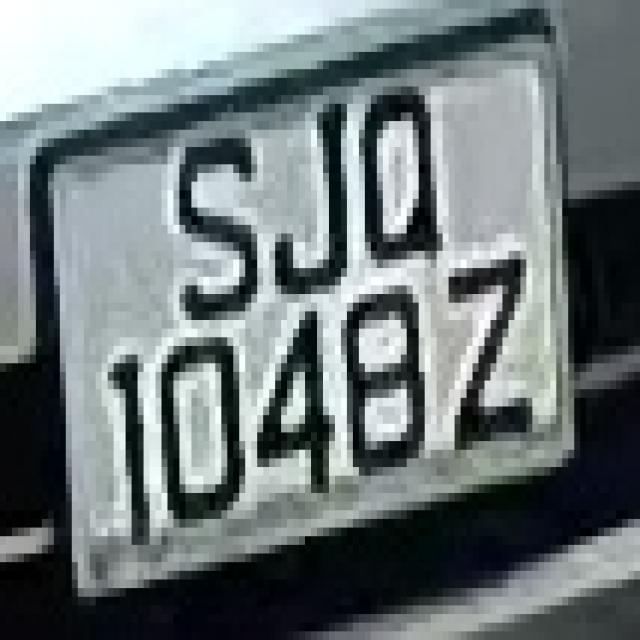0: (144, 337, 257, 562)
1: (108, 328, 168, 606)
4: (233, 286, 329, 502)
8: (329, 286, 437, 510)
J: (251, 78, 359, 311)
Q: (353, 52, 448, 311)
S: (144, 104, 281, 346)
Z: (425, 225, 526, 510)
